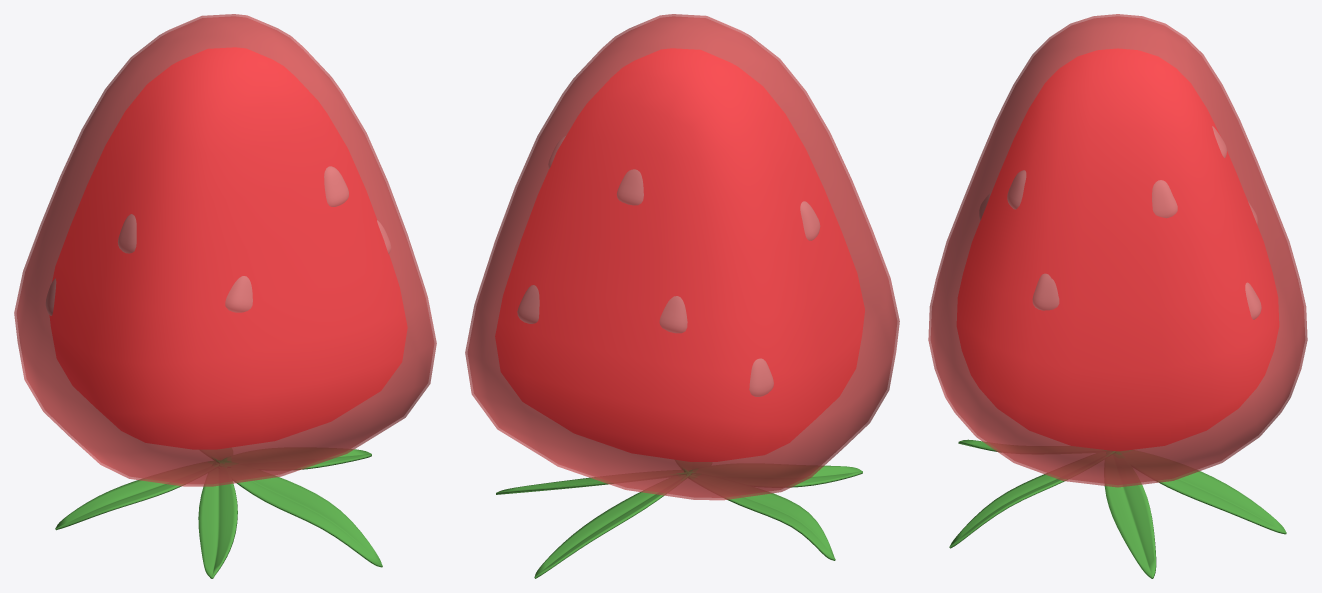
3 views of the same model, side by side, from view 1: azimuth 30°, elevation 25°; view 2: azimuth 150°, elevation 25°; view 3: azimuth 270°, elevation 25° (orthographic). The views are drawn at different scales.
Visible parts, largest first — view 1: Cube, Cube.001, 平面, Cube.008, Cube.007, Cube.009; view 2: Cube, Cube.001, 平面, Cube.003, Cube.002, Cube.010, Cube.004; view 3: Cube, Cube.001, 平面, Cube.005, Cube.006.
Part boxes in pixels (bbox=[...]): Cube: bbox=[14, 14, 436, 486]; Cube.001: bbox=[50, 47, 407, 449]; 平面: bbox=[55, 449, 382, 578]; Cube.008: bbox=[225, 276, 252, 312]; Cube.007: bbox=[324, 166, 348, 206]; Cube.009: bbox=[118, 214, 136, 253]; Cube: bbox=[465, 14, 899, 500]; Cube.001: bbox=[495, 48, 864, 461]; 平面: bbox=[496, 465, 862, 578]; Cube.003: bbox=[660, 296, 687, 332]; Cube.002: bbox=[617, 169, 643, 204]; Cube.010: bbox=[749, 359, 773, 396]; Cube.004: bbox=[517, 285, 539, 323]; Cube: bbox=[928, 14, 1307, 487]; Cube.001: bbox=[957, 48, 1278, 450]; 平面: bbox=[949, 439, 1286, 578]; Cube.005: bbox=[1152, 180, 1177, 217]; Cube.006: bbox=[1032, 274, 1058, 310].
Size of the model in its own units: 2.78 by 4.01 by 2.81.
